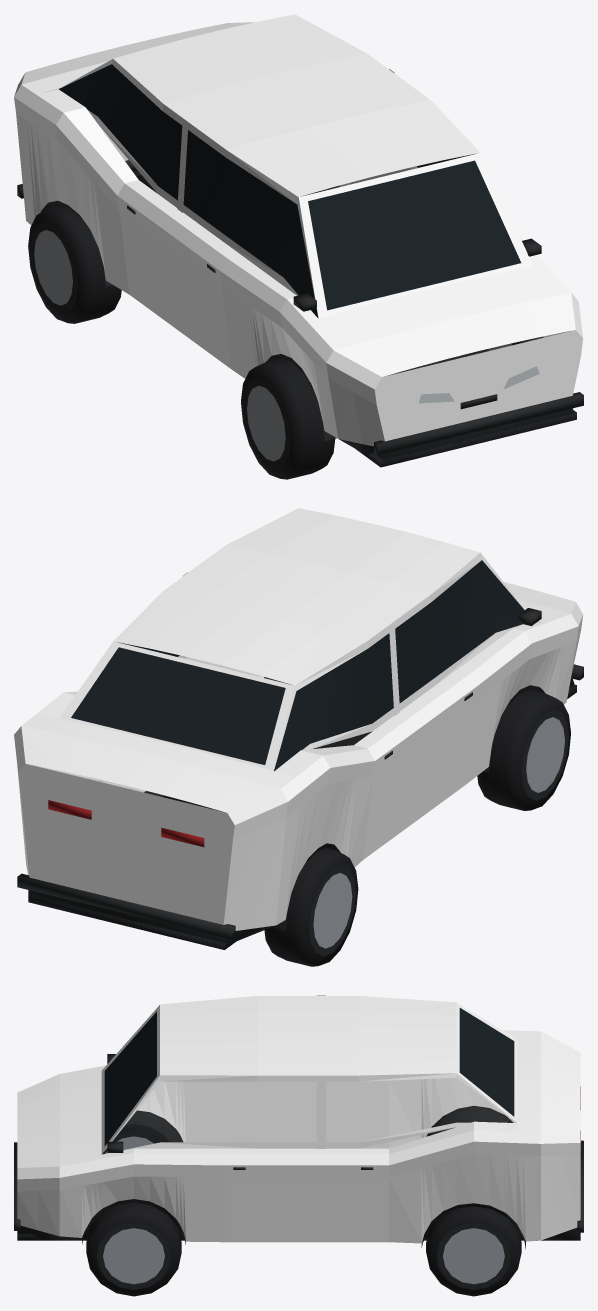
The model's file is sanga_ravina.glb.
3 renders of one model, top to bottom at view 1: azimuth 30°, elevation 25°; view 2: azimuth 150°, elevation 25°; view 3: azimuth 270°, elevation 25°, orthographic. The views are drawn at different scales.
Visible parts, largest first — view 1: Body_Paint, Body_Details, Mount_FrontLeft_Wheel_Details, Mount_RearLeft_Wheel_Details; view 2: Body_Paint, Body_Details, Mount_FrontLeft_Wheel_Details, Mount_RearLeft_Wheel_Details; view 3: Body_Paint, Body_Details, Mount_FrontRight_Wheel_Details, Mount_RearRight_Wheel_Details, Mount_FrontLeft_Wheel_Details.
Boxes of the visible parts, x1,y1,x2,y2 form: Body_Paint: (14,14,583,446); Body_Details: (17,64,583,467); Mount_FrontLeft_Wheel_Details: (241,358,335,479); Mount_RearLeft_Wheel_Details: (28,205,121,323); Body_Paint: (14,508,583,930); Body_Details: (17,560,583,949); Mount_FrontLeft_Wheel_Details: (477,690,570,810); Mount_RearLeft_Wheel_Details: (264,848,358,966); Body_Paint: (17,995,580,1243); Body_Details: (14,1008,583,1249); Mount_FrontRight_Wheel_Details: (86,1202,181,1296); Mount_RearRight_Wheel_Details: (426,1206,521,1296); Mount_FrontLeft_Wheel_Details: (102,1124,169,1154).
Bounding box in the file's own units: 2.08 × 1.88 × 4.59.
2 materials, 1 textured.
